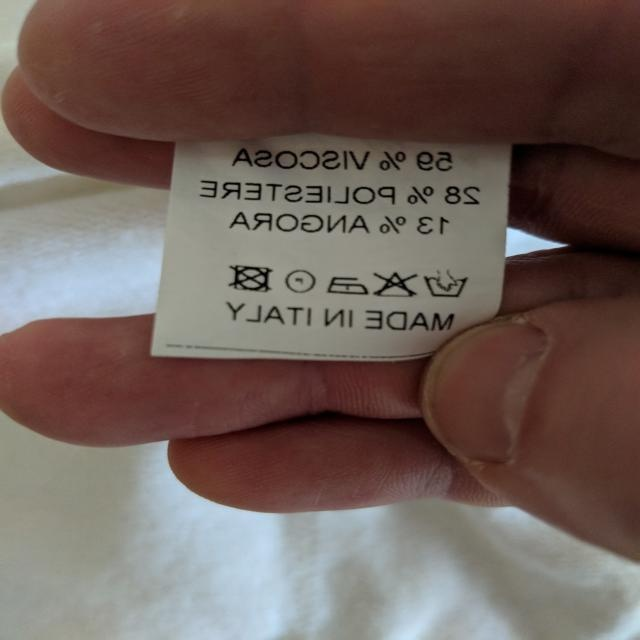DN_bleach: (373, 269, 417, 300)
DN_tumble_dry: (225, 263, 273, 292)
dry_clean_any_solvent_except_trichloroethylene: (282, 269, 318, 293)
hand_wash: (421, 265, 472, 304)
iron_low: (324, 273, 369, 297)
